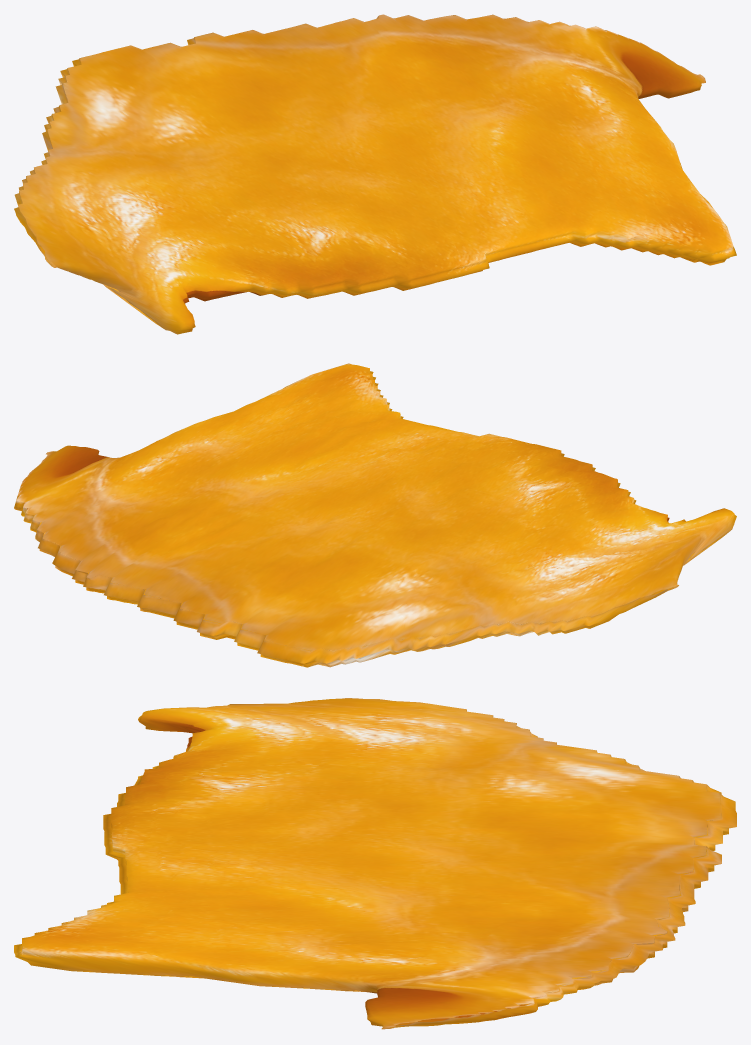
Rendered from american-cheese.glb.
The picture shows the model from 3 angles, top to bottom: view 1: azimuth 30°, elevation 25°; view 2: azimuth 150°, elevation 25°; view 3: azimuth 270°, elevation 25°; orthographic projection. The views are drawn at different scales.
Parts seen in each view (by area): view 1: american-cheese; view 2: american-cheese; view 3: american-cheese.
Boxes of the visible parts, <box> form: american-cheese: <box>14,14,736,334</box>; american-cheese: <box>14,363,736,667</box>; american-cheese: <box>14,698,736,1029</box>.
Size of the model in its own units: 0.96 by 0.045 by 0.88.
1 material, 1 textured.
